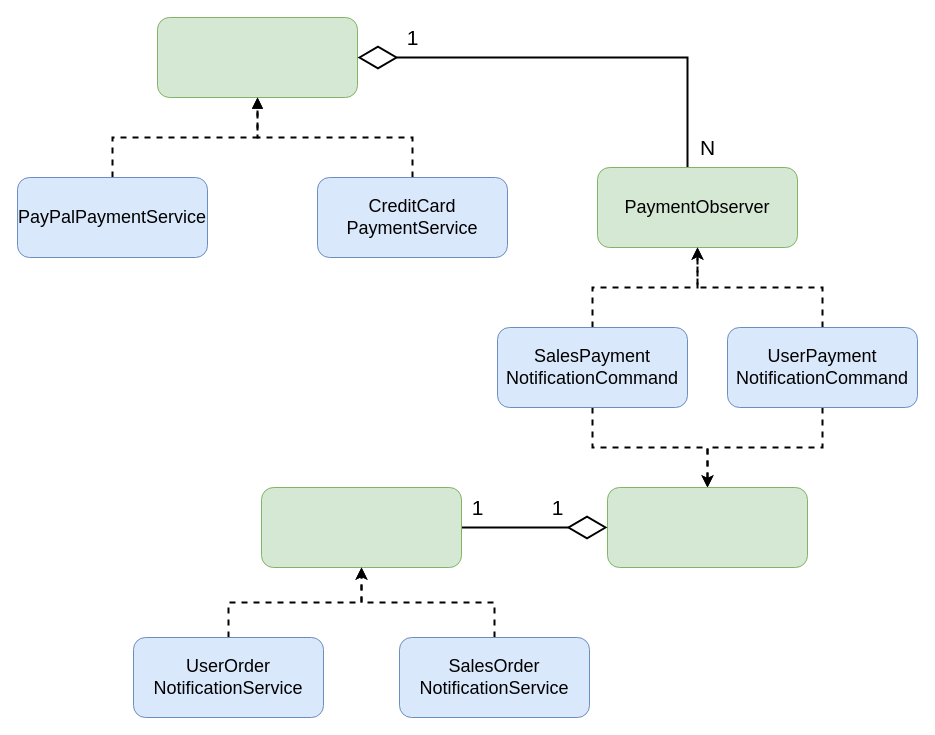
Some shapes in this 935 by 735 pixel diagram are drawn without their labels. The shapes that lost their labels are listed below. From the top down, each one's centre as x and y in pixels, then its label:
At (257,57): "PaymentServiceStrategy".
At (361,527): "OrderNotificationService".
At (707,527): "NotificationCommand".
